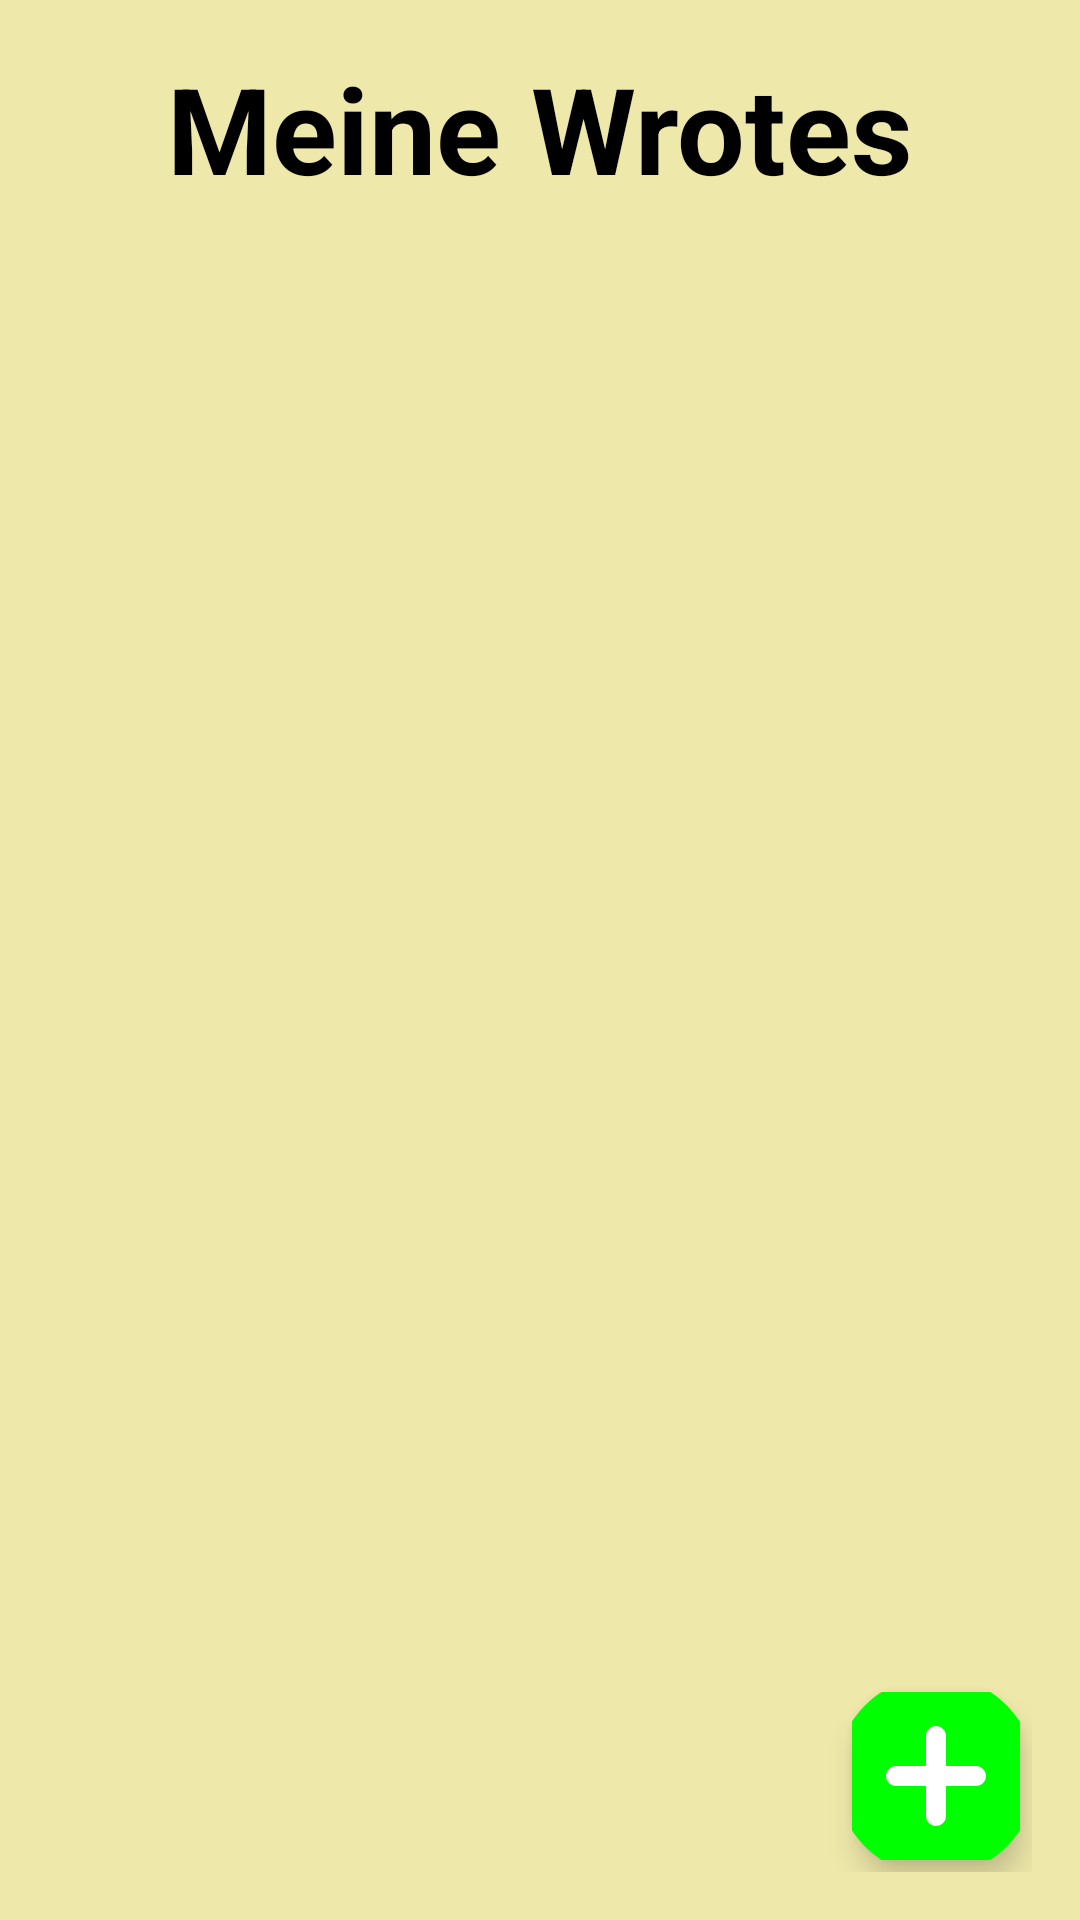

Screen size 1080 × 1920. Icon name, then its center in pixels as (x=x, y=y):
Add Note: (x=936, y=1776)
